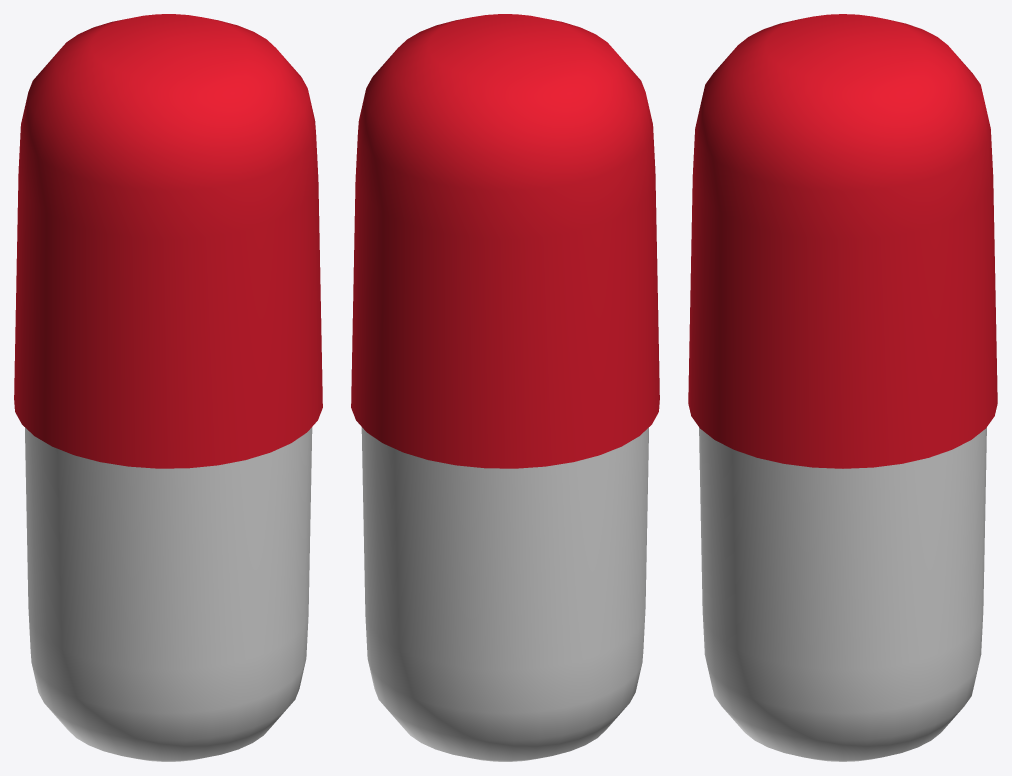
File: Pill.fbx
3 renders of one model, left to right at view 1: azimuth 30°, elevation 25°; view 2: azimuth 150°, elevation 25°; view 3: azimuth 270°, elevation 25°, orthographic.
Visible parts, largest first — view 1: Cylinder, Cylinder.001; view 2: Cylinder, Cylinder.001; view 3: Cylinder, Cylinder.001.
Boxes of the visible parts, left/top/right/bottom form: Cylinder: left=14, top=14, right=322, bottom=468; Cylinder.001: left=25, top=427, right=312, bottom=761; Cylinder: left=351, top=14, right=659, bottom=468; Cylinder.001: left=361, top=427, right=648, bottom=761; Cylinder: left=688, top=14, right=997, bottom=468; Cylinder.001: left=699, top=427, right=986, bottom=761.
Bounding box in the file's own units: 121 × 301 × 121.
